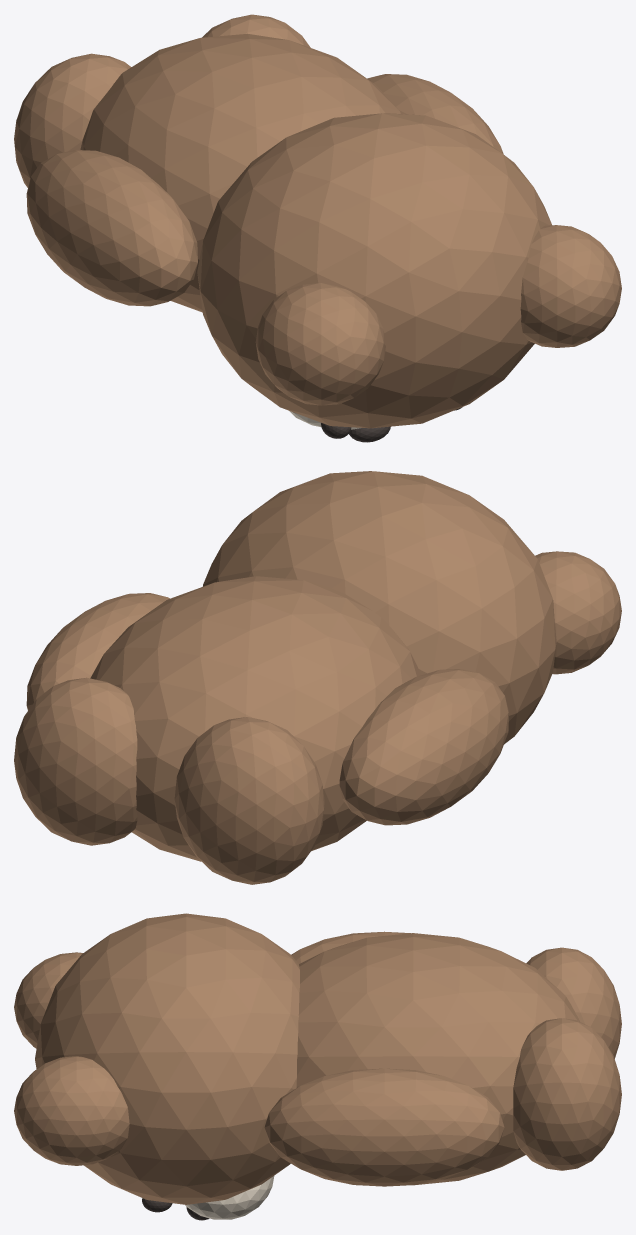
File: kaaru_teddy.glb
3 views of the same model, one above another, from view 1: azimuth 30°, elevation 25°; view 2: azimuth 150°, elevation 25°; view 3: azimuth 270°, elevation 25° (orthographic). The views are drawn at different scales.
Parts seen in each view (by area): view 1: world; view 2: world; view 3: world.
Part boxes in pixels (left/top/right/bottom): world: left=14, top=14, right=621, bottom=442; world: left=14, top=471, right=621, bottom=884; world: left=14, top=913, right=621, bottom=1220.
Bounding box in the file's own units: 1.68 × 1.21 × 2.33.
